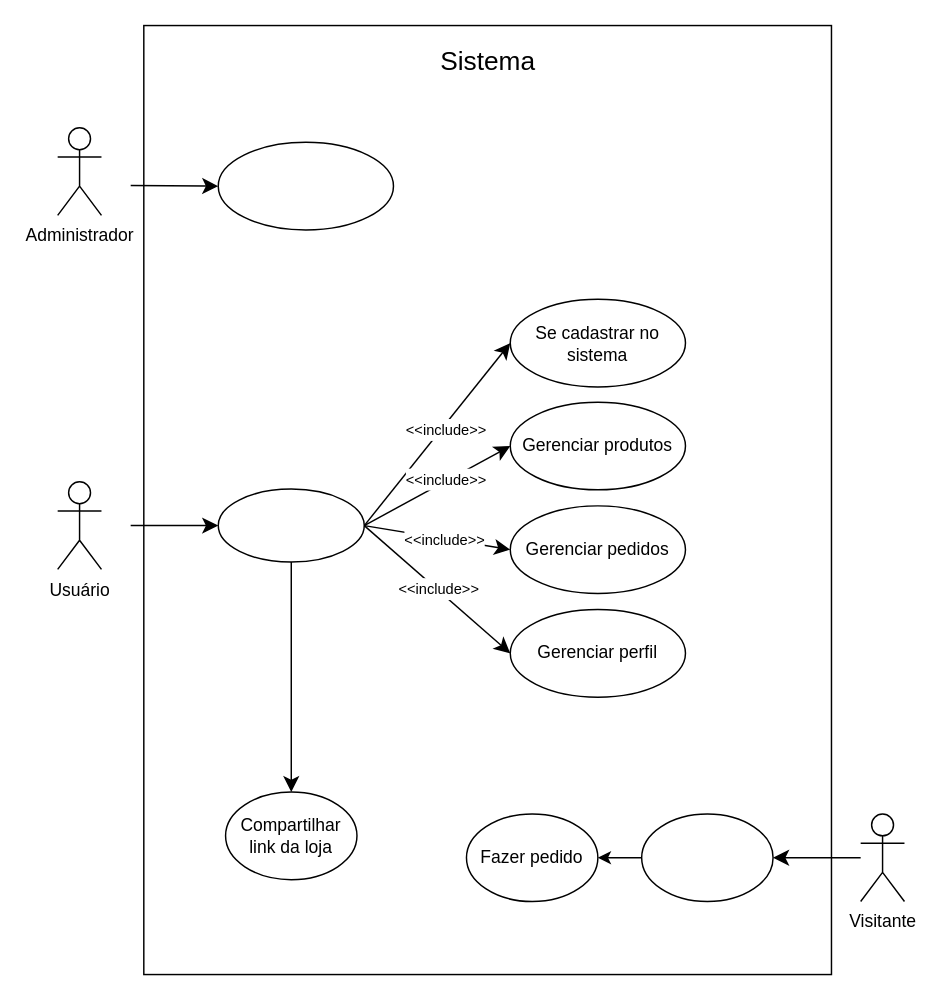
This 940x1000 diagram has some shape labels left out. The shapes that lost their labels are listed below. From the top down, each one's box as (x1, y1, x2, y2) in pixels, then its label:
(217, 141, 393, 230): Gerencia o sistema
(217, 488, 364, 562): Efetuar login
(640, 812, 773, 902): Visualizar loja pública
